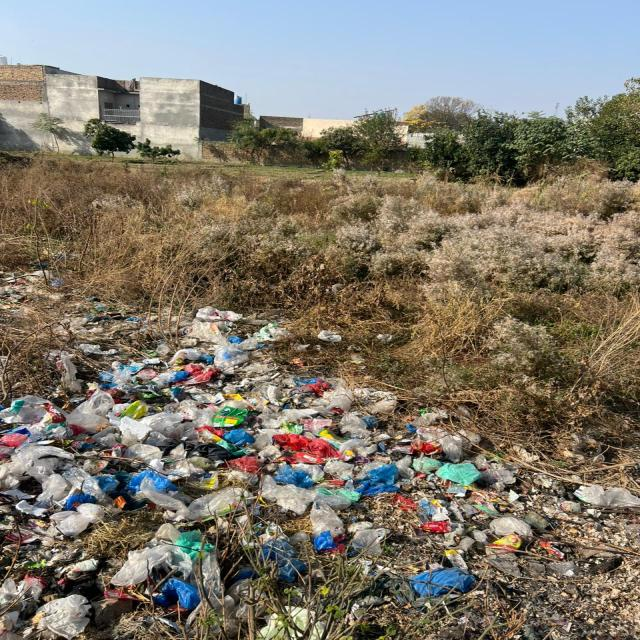garbage: (0, 313, 478, 640)
